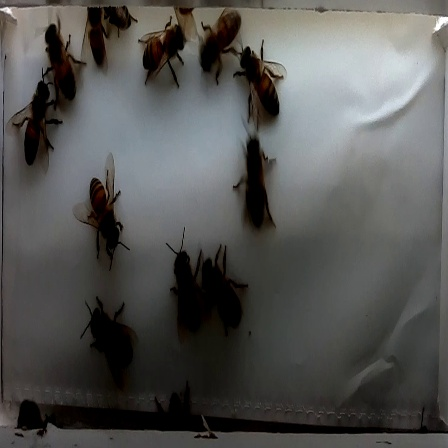bee: (217, 126, 287, 238), (222, 40, 300, 134), (68, 167, 139, 268), (66, 297, 144, 378), (151, 229, 206, 341), (188, 250, 256, 333), (32, 16, 86, 115), (8, 72, 61, 169), (192, 7, 248, 91), (133, 20, 191, 91), (76, 4, 121, 79)
